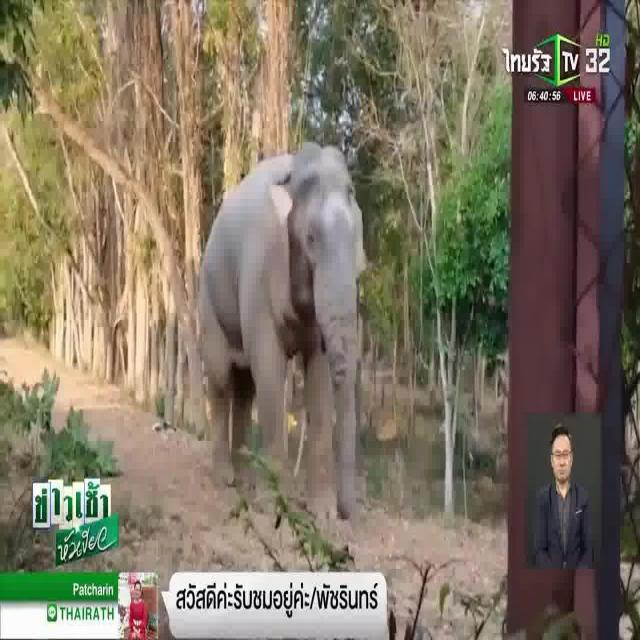Elephant: (196, 140, 362, 502)
